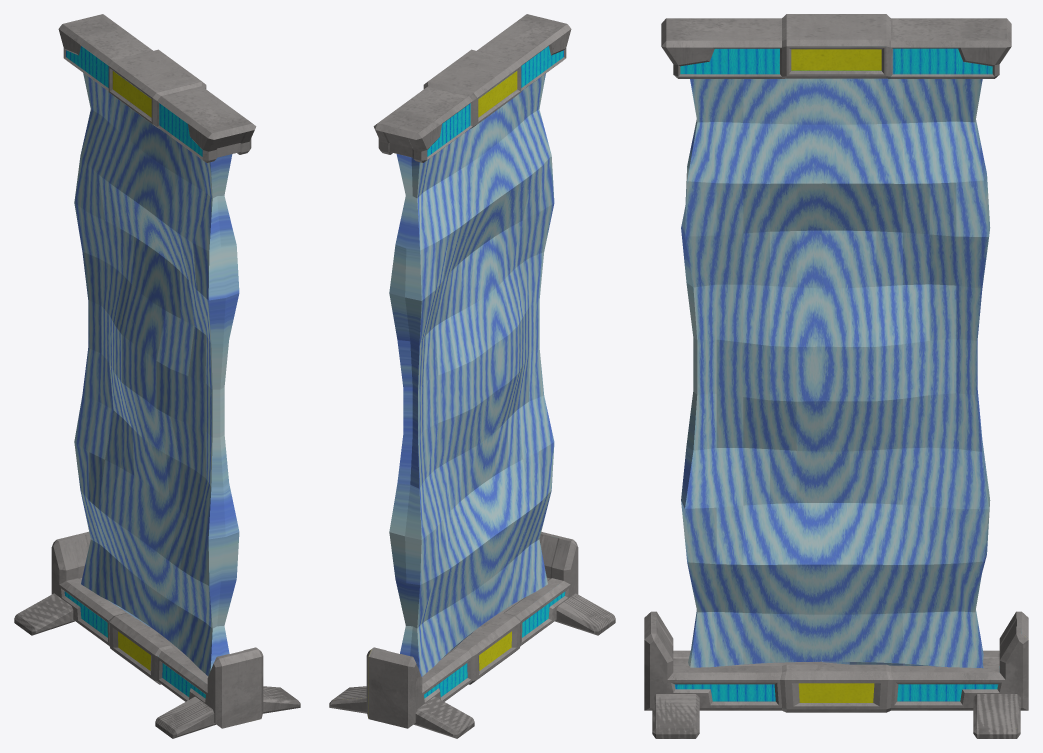
Rendered from portal.fbx.
3 renders of one model, left to right at view 1: azimuth 30°, elevation 25°; view 2: azimuth 150°, elevation 25°; view 3: azimuth 270°, elevation 25°, orthographic. The views are drawn at different scales.
Visible parts, largest first — view 1: portal1.001, Cube.004, Cube.006, Cube.005; view 2: portal1.001, Cube.004, Cube.006, Cube.005; view 3: portal1.001, Cube.004, Cube.006, Cube.005.
Boxes of the visible parts, bbox=[...] form: portal1.001: bbox=[74, 73, 239, 676]; Cube.004: bbox=[58, 14, 256, 162]; Cube.006: bbox=[51, 531, 263, 728]; Cube.005: bbox=[14, 593, 300, 738]; portal1.001: bbox=[389, 73, 554, 676]; Cube.004: bbox=[373, 14, 571, 162]; Cube.006: bbox=[366, 532, 578, 728]; Cube.005: bbox=[329, 593, 615, 738]; portal1.001: bbox=[681, 78, 990, 668]; Cube.004: bbox=[661, 14, 1011, 78]; Cube.006: bbox=[644, 611, 1028, 712]; Cube.005: bbox=[652, 694, 1020, 738].
Size of the model in its own units: 50.99 by 226 by 116.
Materials: 2 (2 with a texture image).
